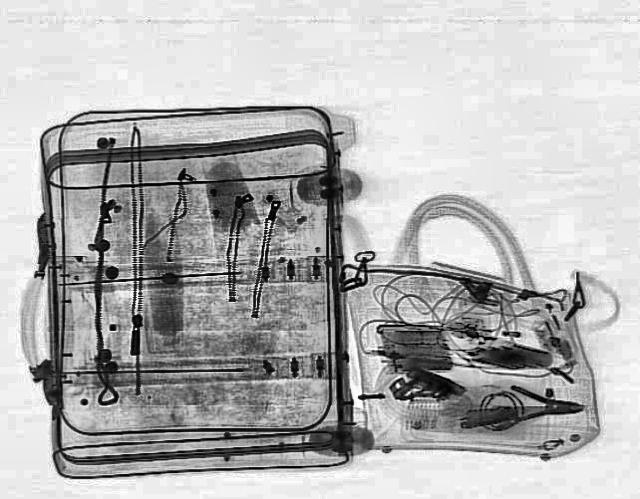Pliers: (506, 384, 584, 428)
